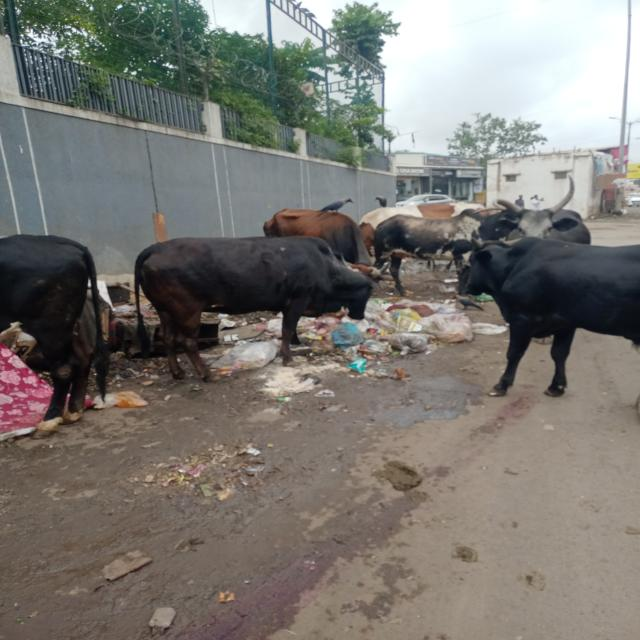garbage: (312, 301, 474, 359), (92, 283, 164, 361), (201, 317, 310, 364)
